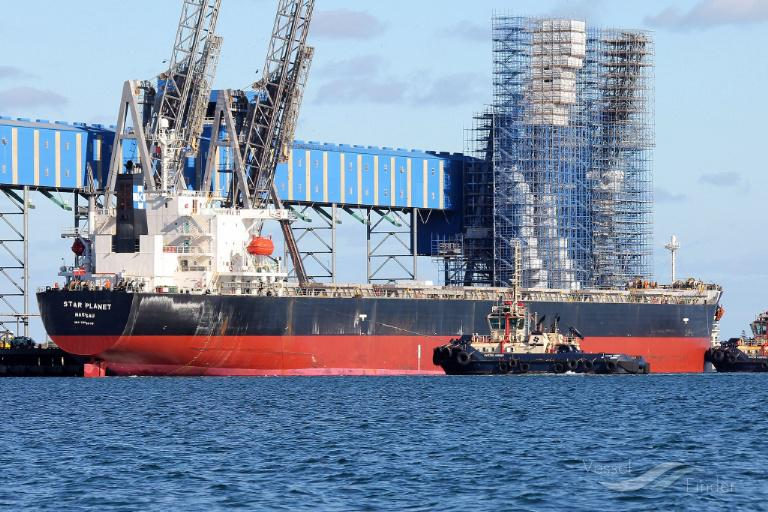OCR: (55, 292, 116, 330)
